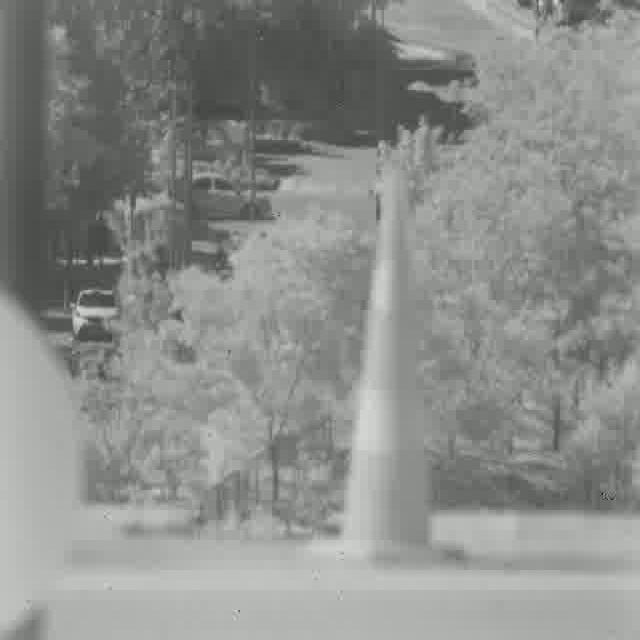Car: (70, 288, 122, 341)
